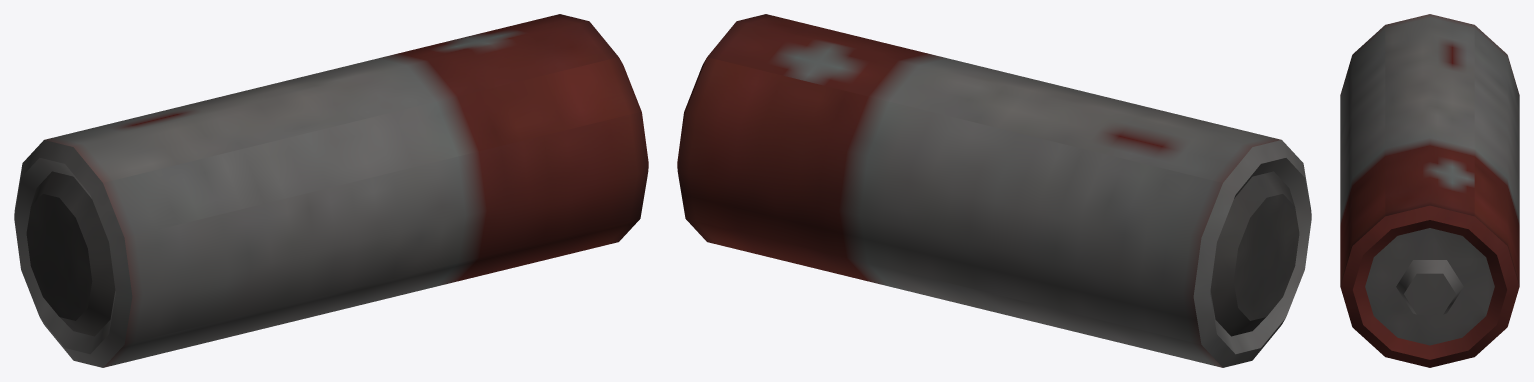
File: battery_mp_1_1.obj
3 renders of one model, left to right at view 1: azimuth 30°, elevation 25°; view 2: azimuth 150°, elevation 25°; view 3: azimuth 270°, elevation 25°, orthographic. The views are drawn at different scales.
Parts seen in each view (by area): view 1: battery_mp_1_1; view 2: battery_mp_1_1; view 3: battery_mp_1_1.
Part boxes in pixels (x1,y1,x2,y2): battery_mp_1_1: [14, 14, 648, 367]; battery_mp_1_1: [677, 14, 1311, 367]; battery_mp_1_1: [1340, 14, 1519, 367].
Size of the model in its own units: 3.1 by 1.15 by 1.15.
Materials: 1 (1 with a texture image).
